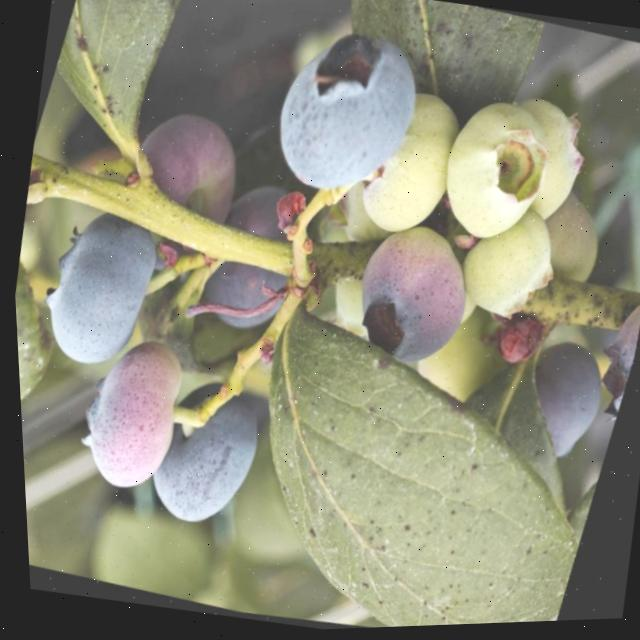RipeBlueBerry: (248, 8, 445, 223), (19, 196, 178, 386), (138, 368, 282, 543)
Semi-RipeBlueBerry: (330, 208, 495, 388), (58, 321, 208, 509)
UnripeBlueBerry: (418, 87, 570, 265)
